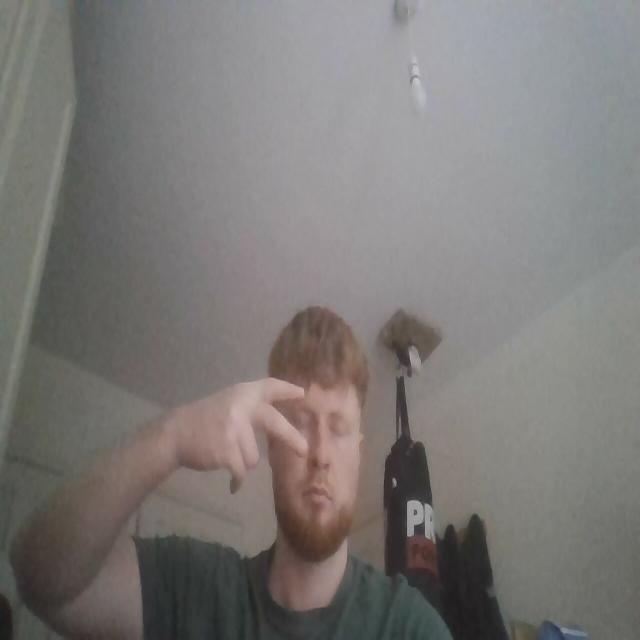scissors: (174, 377, 309, 498)
